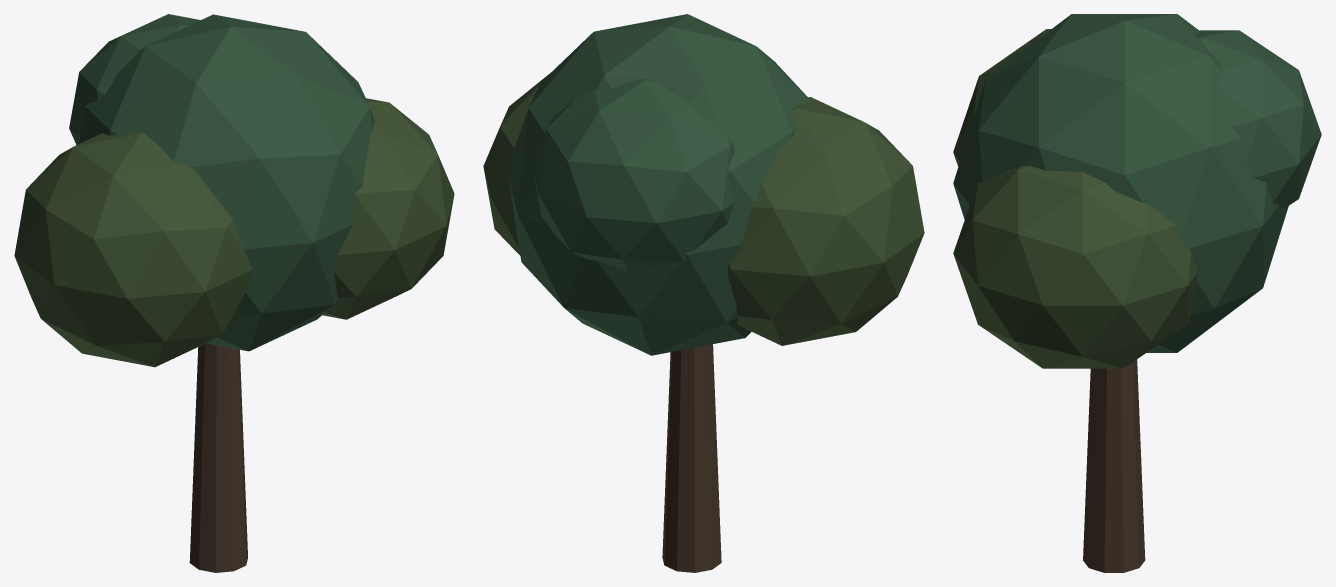
File: env_tree_b.glb
The picture shows the model from 3 angles, left to right: view 1: azimuth 30°, elevation 25°; view 2: azimuth 150°, elevation 25°; view 3: azimuth 270°, elevation 25°; orthographic projection. The views are drawn at different scales.
Parts seen in each view (by area): view 1: env_tree_b; view 2: env_tree_b; view 3: env_tree_b.
Part boxes in pixels (bbox=[...]): env_tree_b: bbox=[14, 14, 454, 572]; env_tree_b: bbox=[483, 14, 924, 572]; env_tree_b: bbox=[953, 14, 1321, 572].
Size of the model in its own units: 4.63 by 5.83 by 3.55.
